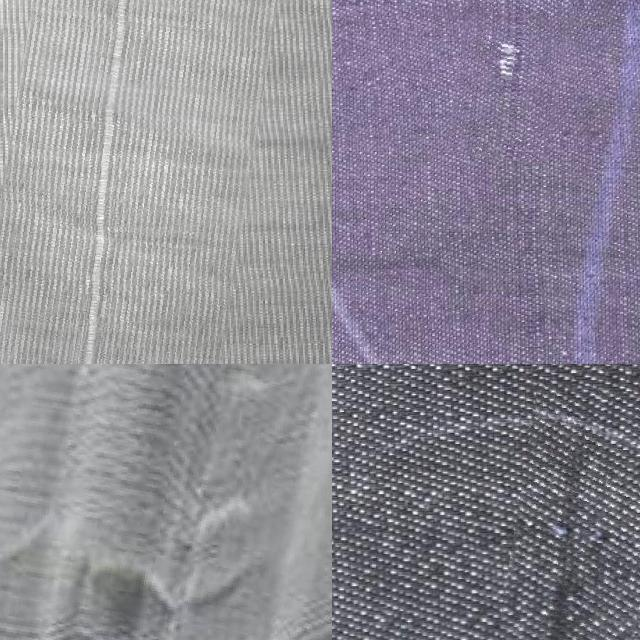stains: (0, 364, 332, 640), (491, 382, 640, 640), (454, 0, 575, 162)
